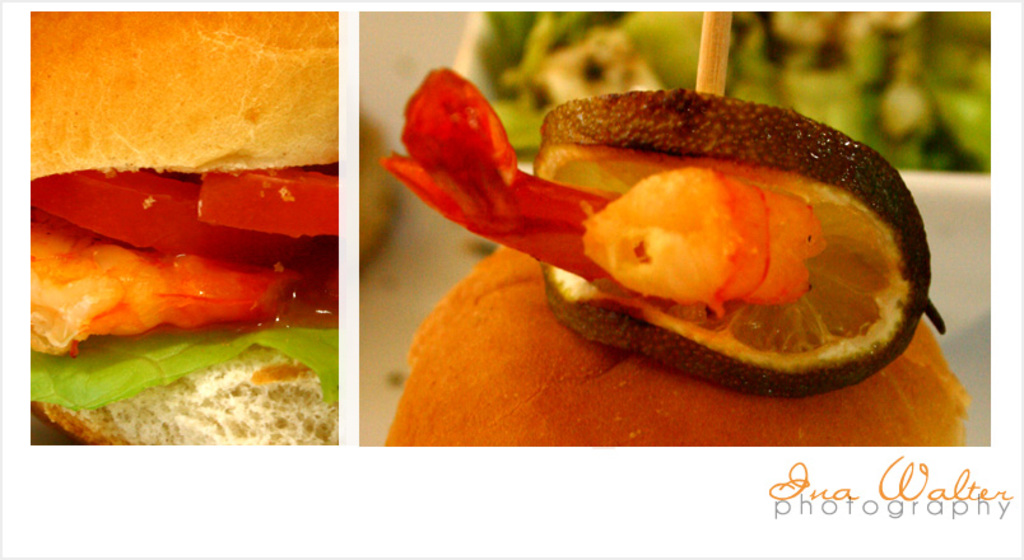sandwich: (32, 8, 343, 447), (383, 244, 973, 447)
